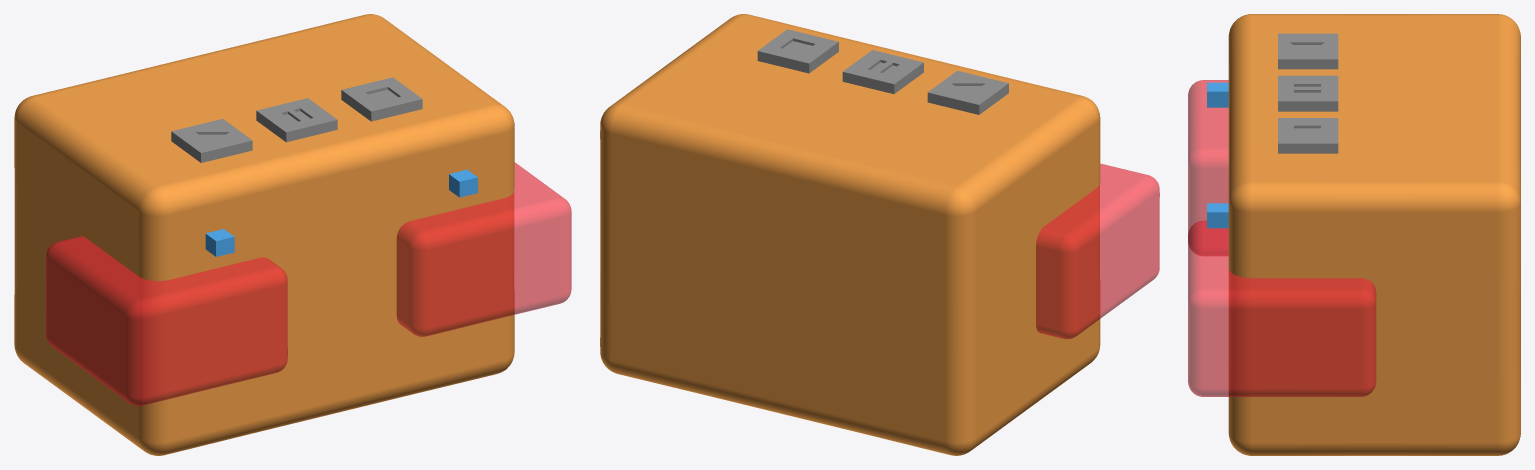
Rendered from demo_box.lod2.glb.
3 renders of one model, left to right at view 1: azimuth 30°, elevation 25°; view 2: azimuth 150°, elevation 25°; view 3: azimuth 270°, elevation 25°, orthographic.
Parts seen in each view (by area): view 1: demo_box_main, demo_box_left_2, demo_box_right_2, btn_end, btn_play, btn_pause, demo_box_left_1, demo_box_right_1; view 2: demo_box_main, demo_box_left_2, btn_end, btn_play, btn_pause; view 3: demo_box_main, demo_box_right_2, demo_box_left_2, btn_pause, btn_play, btn_end, demo_box_left_1, demo_box_right_1.
Part boxes in pixels (bbox=[...]): demo_box_main: bbox=[14, 14, 514, 455]; demo_box_left_2: bbox=[46, 236, 287, 405]; demo_box_right_2: bbox=[396, 162, 571, 336]; btn_end: bbox=[341, 77, 422, 121]; btn_play: bbox=[171, 119, 252, 162]; btn_pause: bbox=[256, 98, 337, 142]; demo_box_left_1: bbox=[205, 229, 234, 256]; demo_box_right_1: bbox=[449, 169, 477, 197]; demo_box_main: bbox=[600, 14, 1100, 455]; demo_box_left_2: bbox=[1036, 164, 1159, 339]; btn_end: bbox=[757, 29, 838, 73]; btn_play: bbox=[927, 70, 1008, 114]; btn_pause: bbox=[842, 50, 923, 93]; demo_box_main: bbox=[1228, 14, 1520, 455]; demo_box_right_2: bbox=[1188, 220, 1376, 396]; demo_box_left_2: bbox=[1188, 80, 1228, 255]; btn_pause: bbox=[1278, 75, 1338, 111]; btn_play: bbox=[1278, 33, 1338, 69]; btn_end: bbox=[1278, 118, 1338, 153]; demo_box_left_1: bbox=[1207, 82, 1228, 107]; demo_box_right_1: bbox=[1207, 203, 1228, 228].
Size of the model in its own units: 0.3382 by 0.2022 by 0.216.
